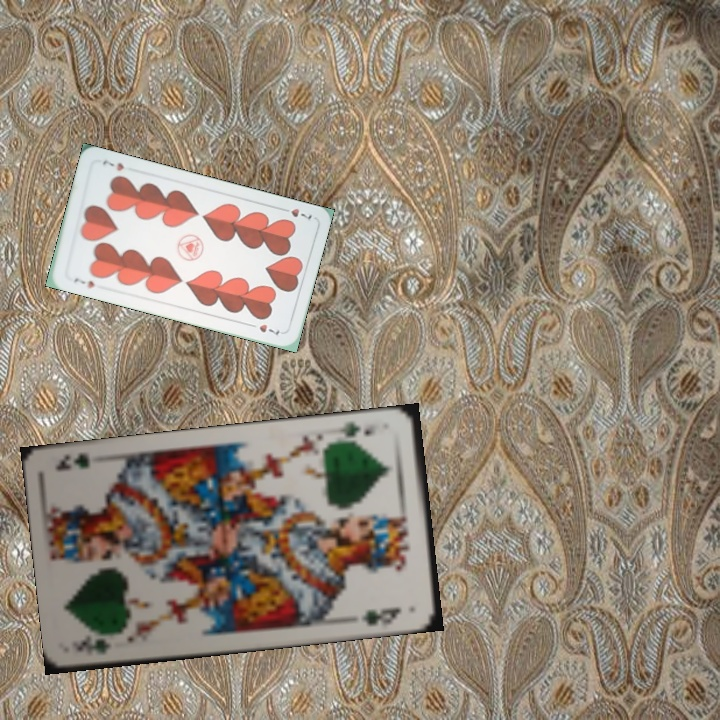GK: (335, 417, 379, 446), (73, 635, 114, 656)
H7: (276, 204, 315, 222), (70, 273, 97, 291)
